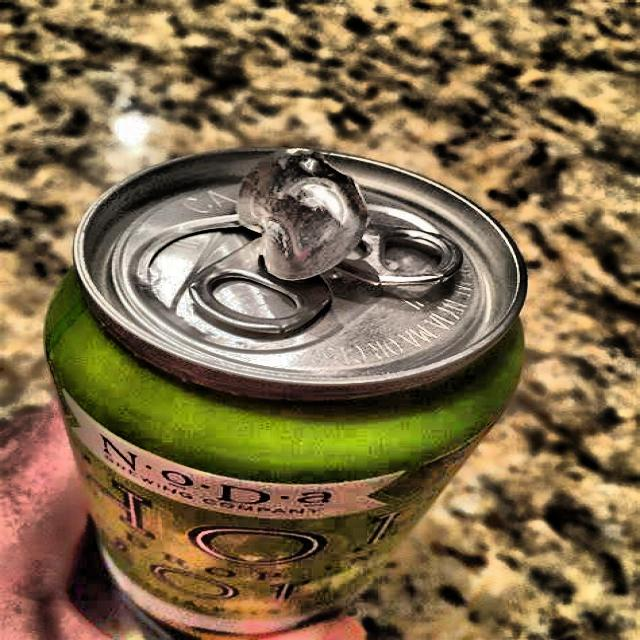Cans: (2, 114, 554, 637)
